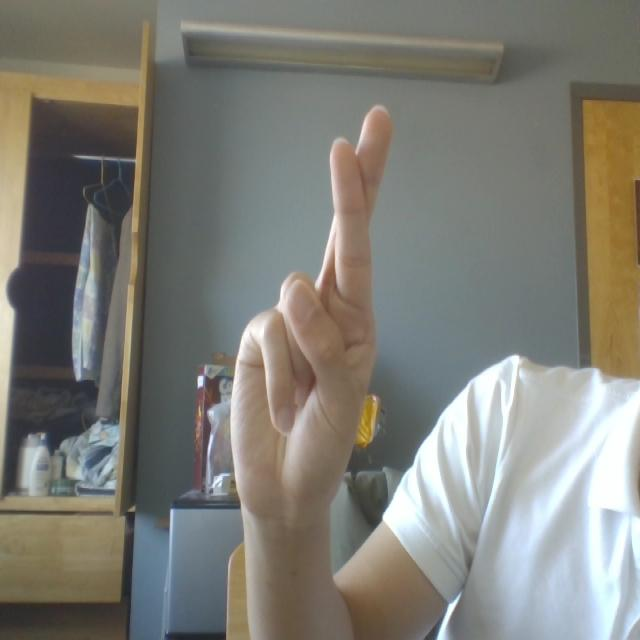R: (182, 64, 429, 574)
